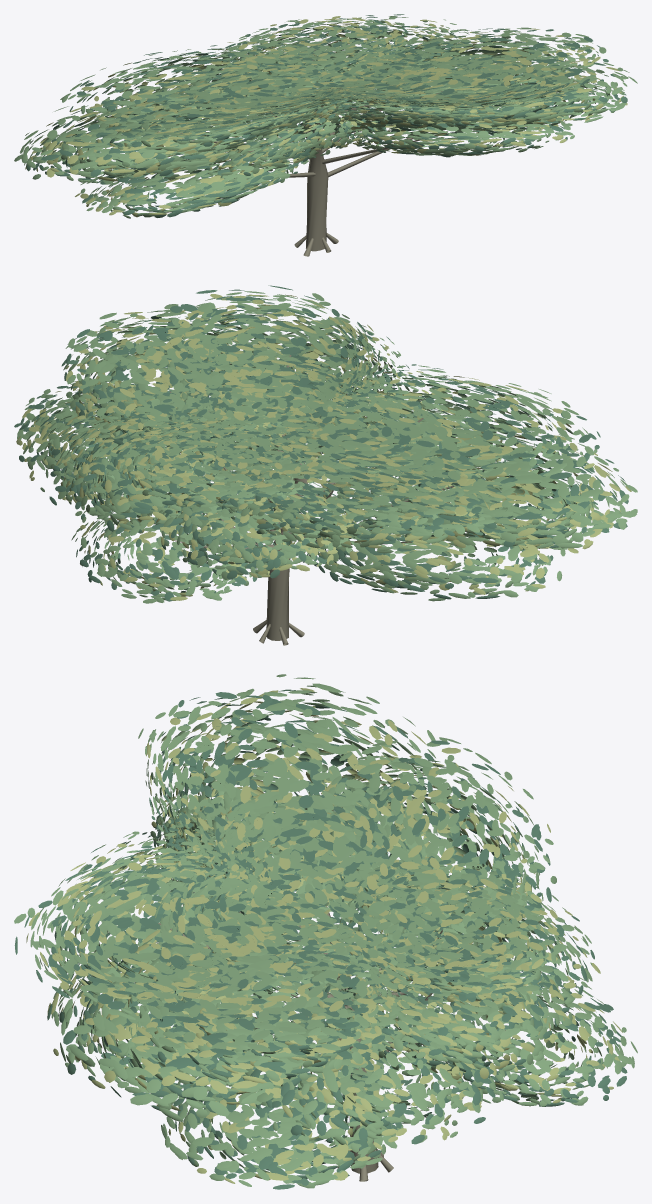
File: grove_0.glb
The picture shows the model from 3 angles, top to bottom: view 1: azimuth 30°, elevation 25°; view 2: azimuth 150°, elevation 25°; view 3: azimuth 270°, elevation 25°; orthographic projection. The views are drawn at different scales.
Parts seen in each view (by area): view 1: study_canopy_0_StudyLeafJade, study_canopy_0_StudyLeafDeep, study_canopy_0_StudyLeafGold, study_canopy_0_StudyBark; view 2: study_canopy_0_StudyLeafJade, study_canopy_0_StudyLeafDeep, study_canopy_0_StudyLeafGold, study_canopy_0_StudyBark; view 3: study_canopy_0_StudyLeafJade, study_canopy_0_StudyLeafDeep, study_canopy_0_StudyLeafGold, study_canopy_0_StudyBark.
Boxes of the visible parts, x1,y1,x2,y2 form: study_canopy_0_StudyLeafJade: (14, 16, 637, 218); study_canopy_0_StudyLeafDeep: (26, 14, 627, 217); study_canopy_0_StudyLeafGold: (25, 16, 627, 217); study_canopy_0_StudyBark: (157, 50, 499, 256); study_canopy_0_StudyLeafJade: (17, 291, 637, 603); study_canopy_0_StudyLeafDeep: (14, 285, 628, 601); study_canopy_0_StudyLeafGold: (16, 294, 631, 600); study_canopy_0_StudyBark: (169, 355, 454, 645); study_canopy_0_StudyLeafJade: (14, 674, 637, 1188); study_canopy_0_StudyLeafDeep: (14, 689, 627, 1189); study_canopy_0_StudyLeafGold: (26, 688, 622, 1183); study_canopy_0_StudyBark: (158, 816, 505, 1181).
Bounding box in the file's own units: 21.22 × 7.46 × 13.4.
